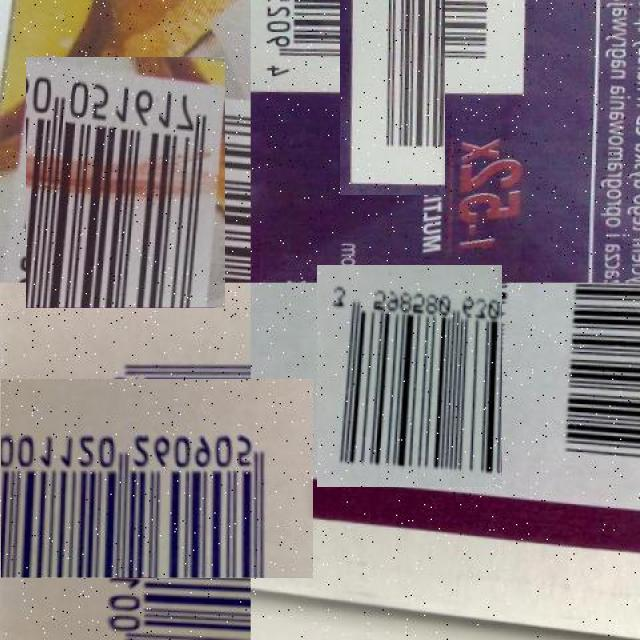Barcode: (21, 347, 282, 609), (13, 70, 238, 295), (308, 274, 512, 478), (296, 0, 491, 151)
